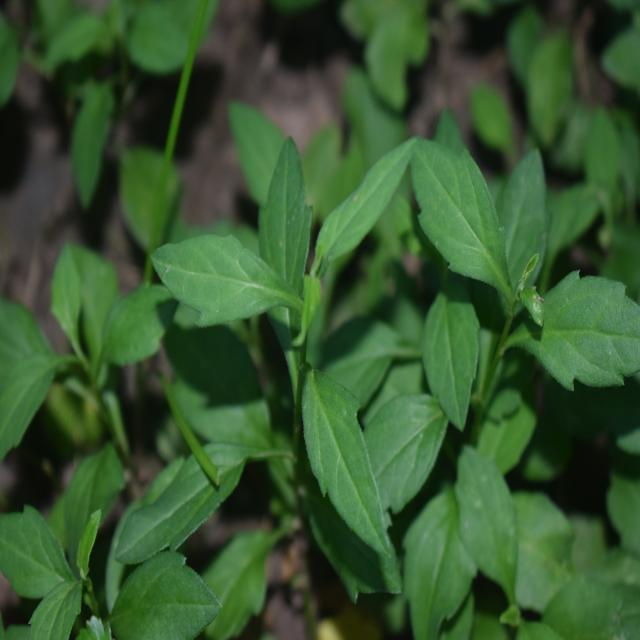Indian aster: (158, 125, 414, 532), (415, 121, 622, 535)
